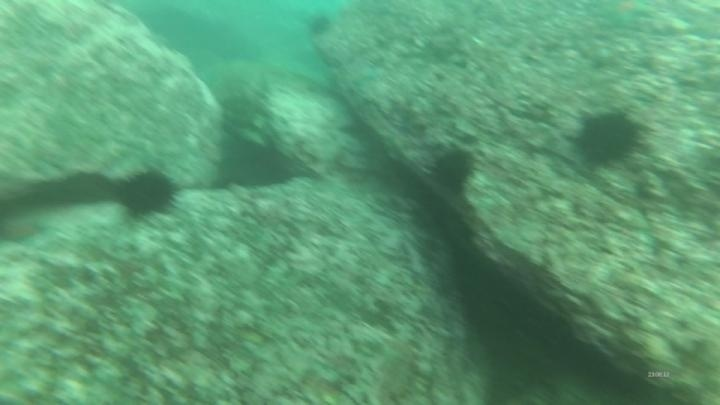echinus: (568, 104, 647, 172), (212, 134, 297, 193), (113, 165, 182, 222), (427, 145, 478, 196), (304, 11, 335, 40)
starfish: (0, 212, 50, 249), (595, 1, 655, 30)
